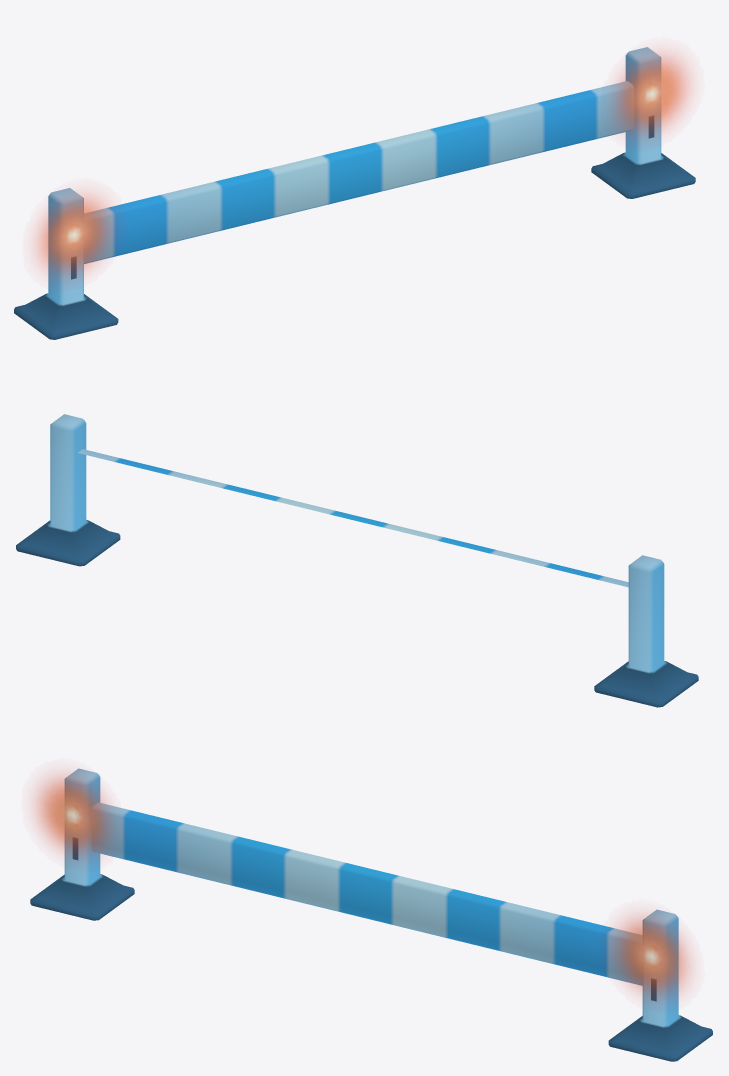
File: ObstacleLowBarrier.prefab.glb
3 renders of one model, top to bottom at view 1: azimuth 30°, elevation 25°; view 2: azimuth 150°, elevation 25°; view 3: azimuth 330°, elevation 25°, orthographic.
Parts seen in each view (by area): view 1: RoadWorksBarrierLow, Light, Light (1); view 2: RoadWorksBarrierLow; view 3: RoadWorksBarrierLow, Light, Light (1).
Boxes of the visible parts, left/top/right/bottom form: RoadWorksBarrierLow: left=14, top=47, right=695, bottom=339; Light: left=613, top=52, right=690, bottom=135; Light (1): left=35, top=193, right=112, bottom=276; RoadWorksBarrierLow: left=16, top=414, right=698, bottom=707; RoadWorksBarrierLow: left=30, top=768, right=712, bottom=1061; Light: left=613, top=914, right=690, bottom=998; Light (1): left=34, top=773, right=112, bottom=857.
Size of the model in its own units: 4.35 by 0.9152 by 0.4257.
2 materials, 1 textured.
